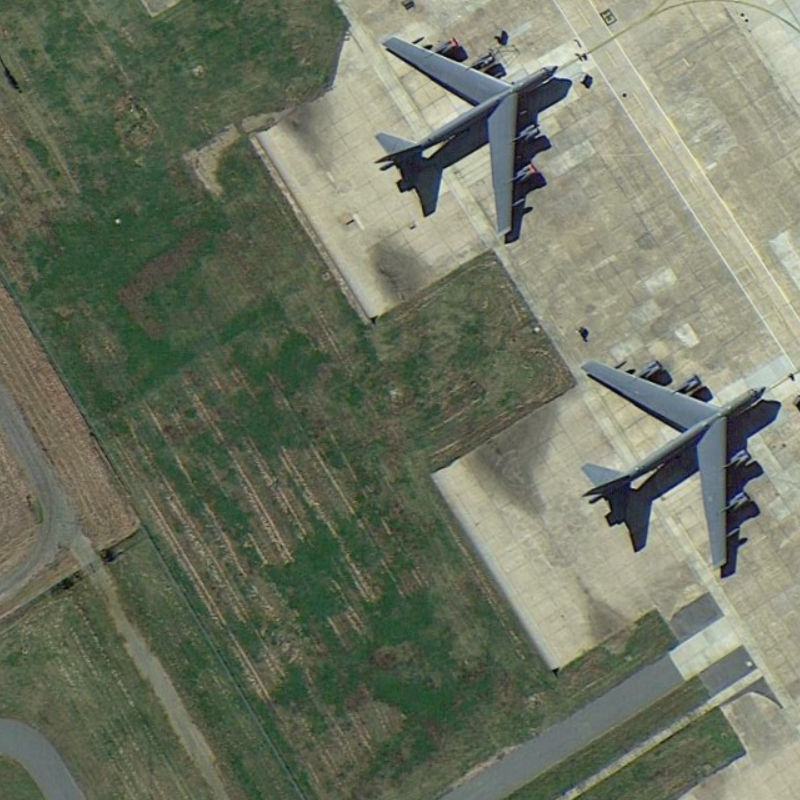A8: (566, 346, 775, 582), (367, 27, 565, 253)
